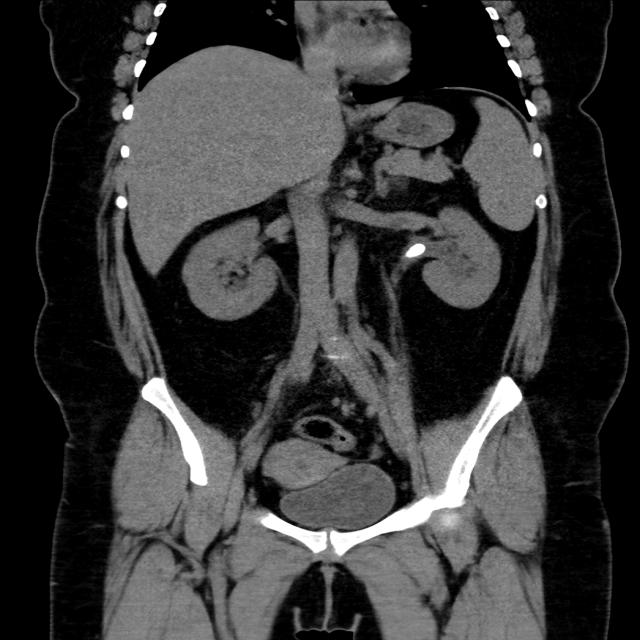kidneystone: (406, 244, 426, 258)
